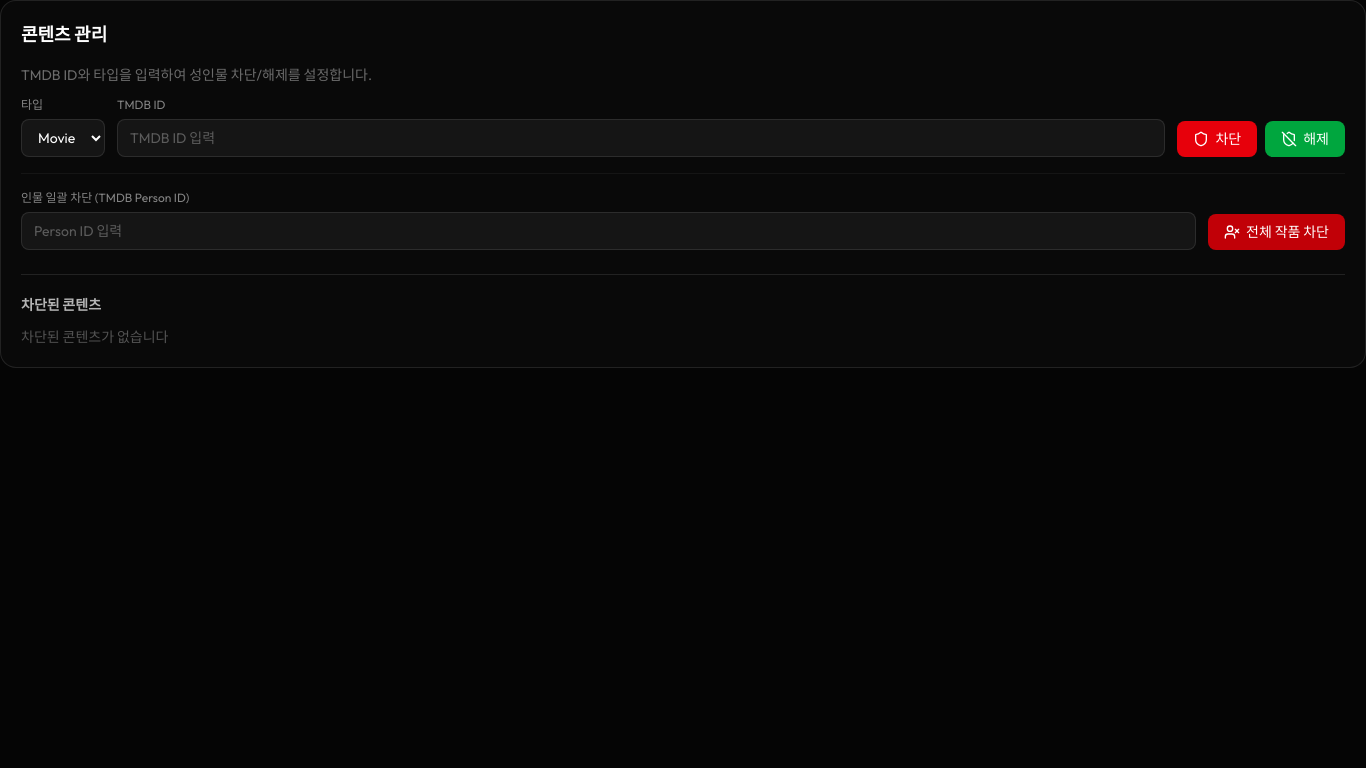
ContentManagement › API 에러 시 에러 메시지를 표시해야 한다
Type "99999" into the number field labelled "TMDB ID" at {"x": 641, "y": 138}, box [117, 119, 1166, 157]
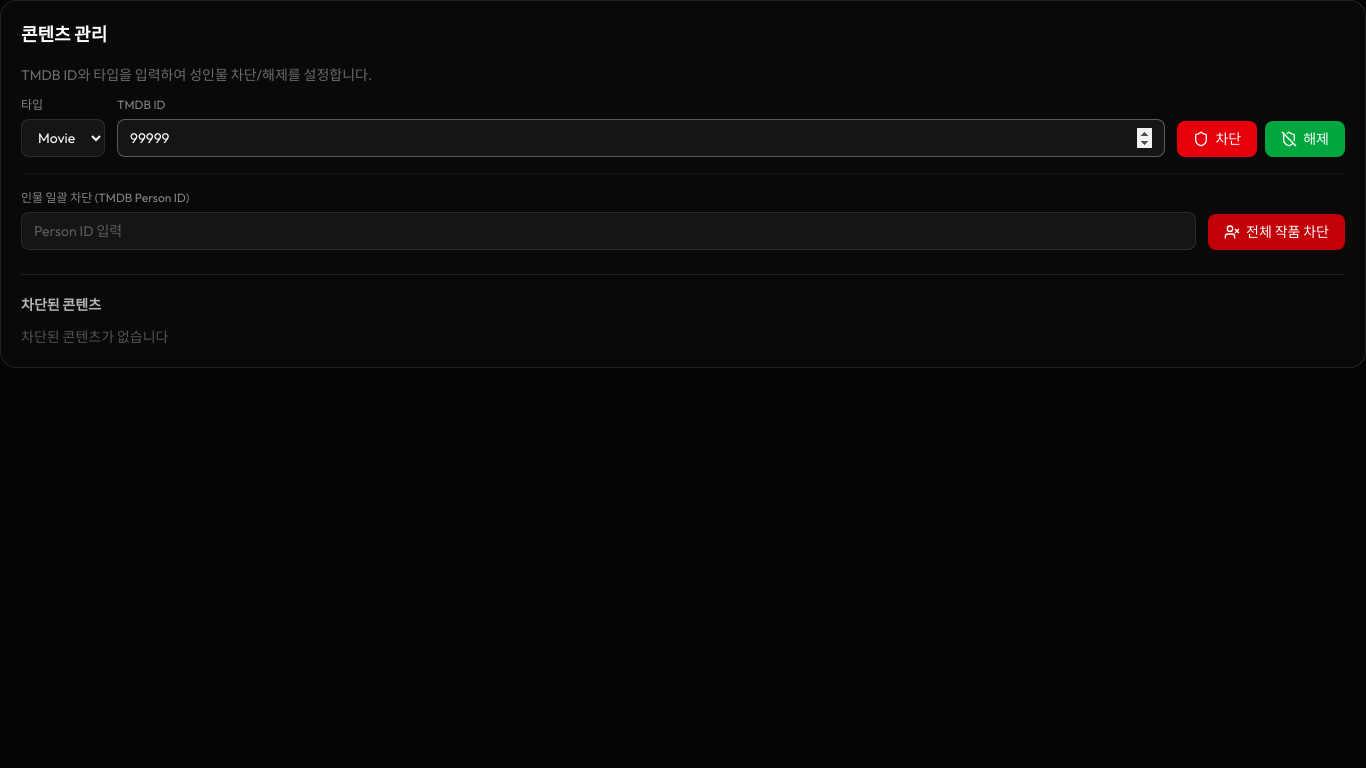
Click the button "차단" at {"x": 1217, "y": 139}, box [1178, 121, 1257, 157]
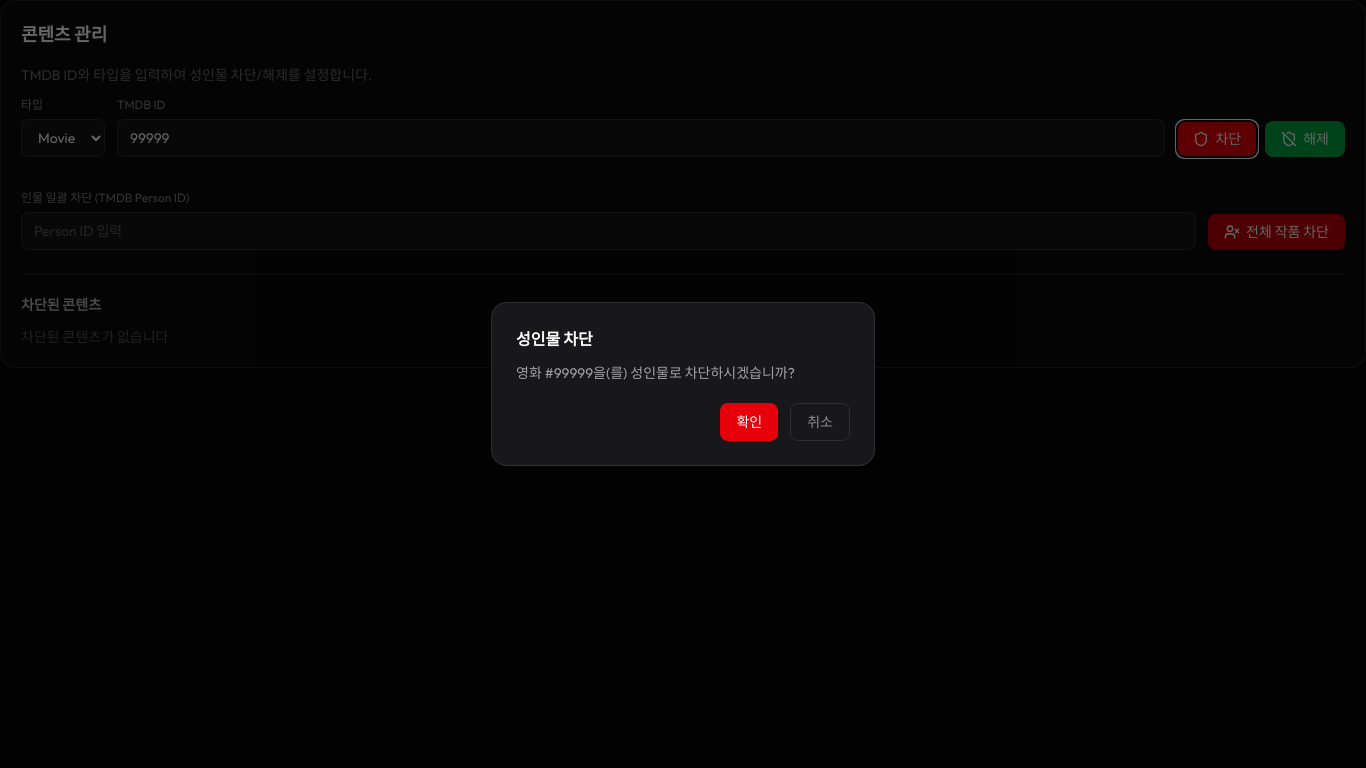
Click the button "확인" at {"x": 749, "y": 422}, box [720, 403, 778, 441]
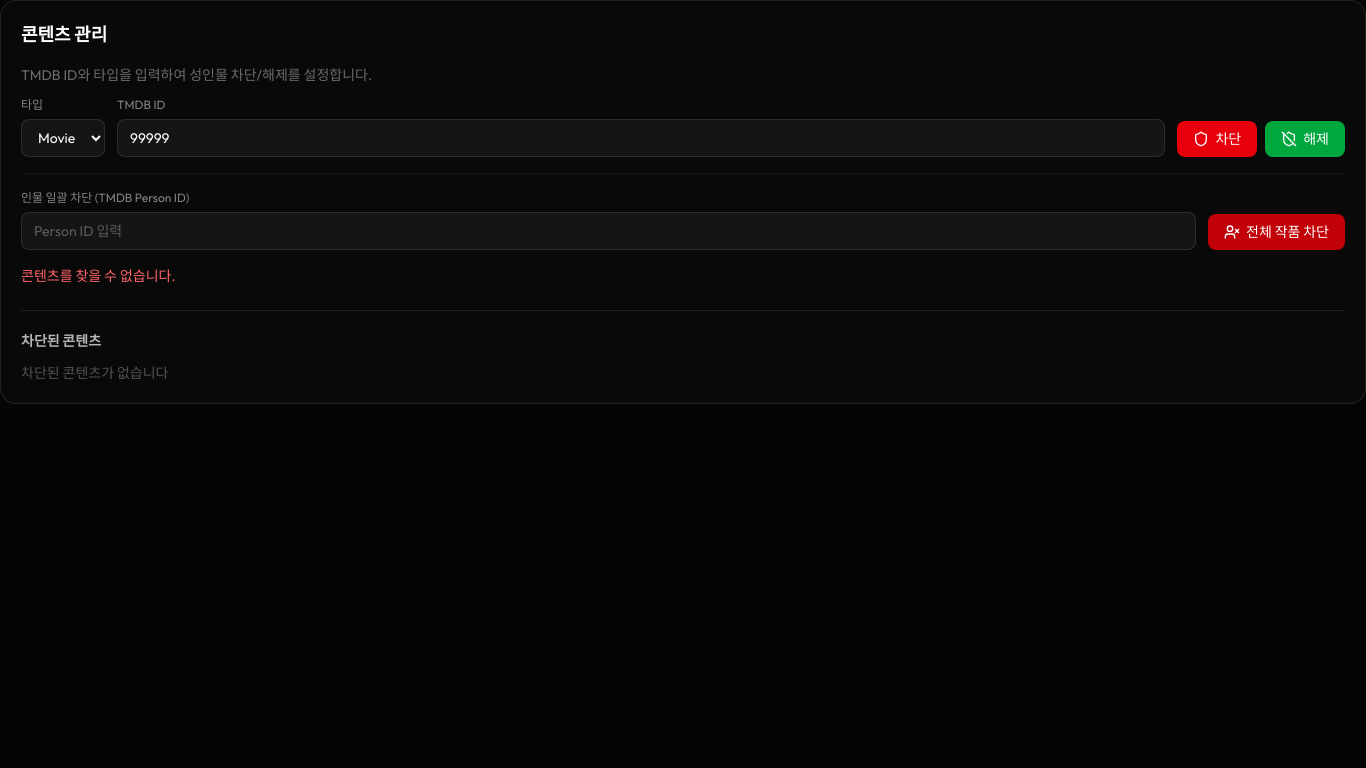
Check: the text "콘텐츠를 찾을 수 없습니다." is shown, box [21, 267, 176, 285]
